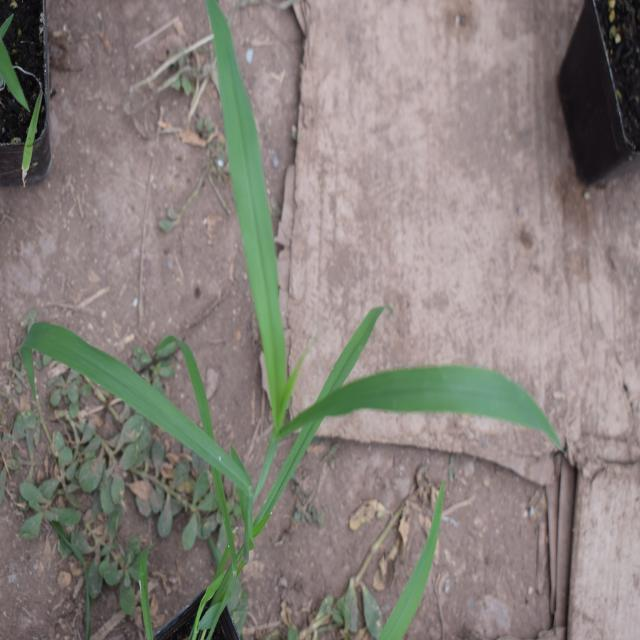crabgrass: (60, 74, 562, 540)
